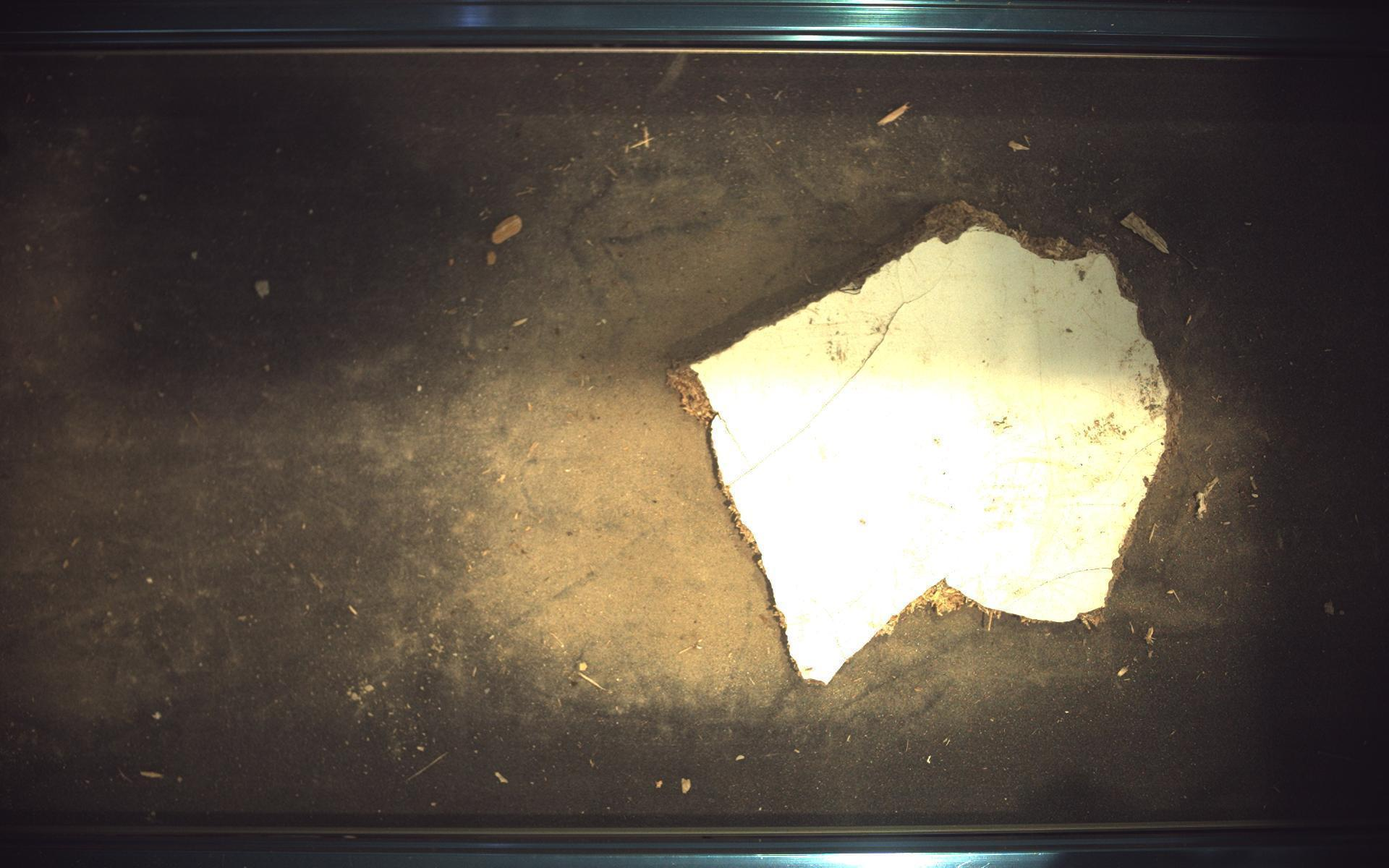wood: (670, 202, 1172, 683)
